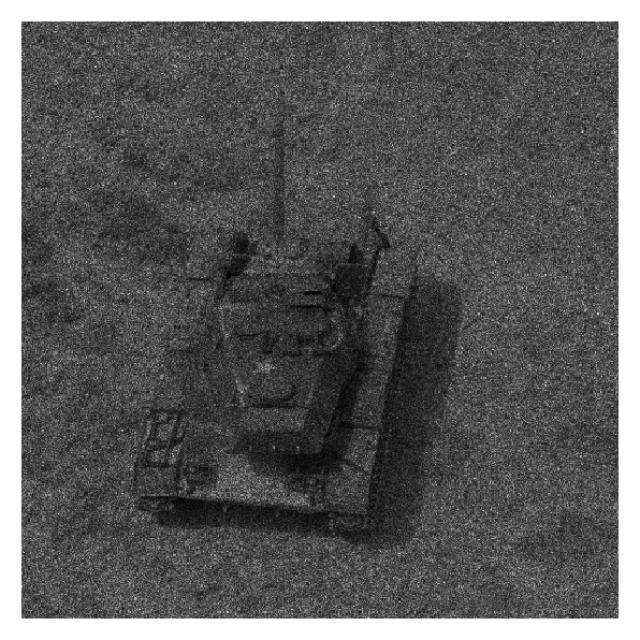Tanks: (125, 93, 424, 539)
